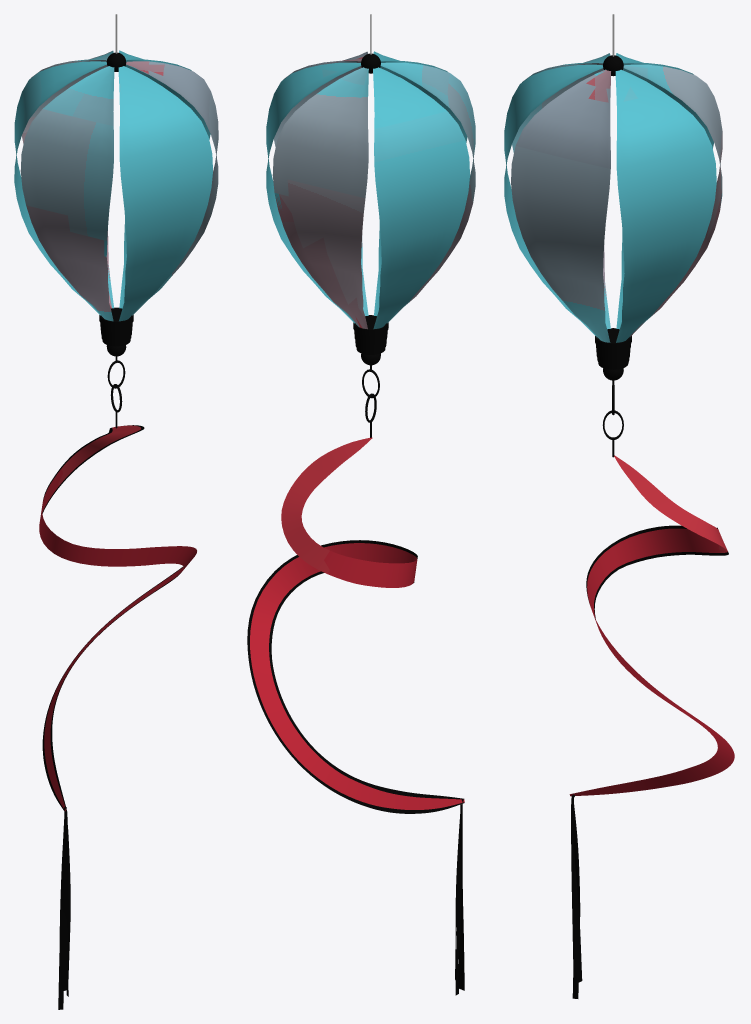
Rendered from 1779299864160_热气球.glb.
3 views of the same model, side by side, from view 1: azimuth 30°, elevation 25°; view 2: azimuth 150°, elevation 25°; view 3: azimuth 270°, elevation 25° (orthographic). The views are drawn at different scales.
Visible parts, largest first — view 1: zhuti mian1, polySurface12 daizi1, mian1 suizi, polySurface11, mian1 heikuai; view 2: zhuti mian1, polySurface12 daizi1, polySurface11, mian1 suizi, mian1 heikuai; view 3: zhuti mian1, polySurface12 daizi1, mian1 suizi, mian1 heikuai, polySurface11.
Boxes of the visible parts, <box> form: zhuti mian1: <box>14,50,218,321</box>; polySurface12 daizi1: <box>39,425,196,811</box>; mian1 suizi: <box>58,807,70,1009</box>; polySurface11: <box>42,425,183,811</box>; mian1 heikuai: <box>99,307,133,346</box>; zhuti mian1: <box>266,51,475,329</box>; polySurface12 daizi1: <box>250,437,464,809</box>; polySurface11: <box>247,540,464,813</box>; mian1 suizi: <box>455,799,464,995</box>; mian1 heikuai: <box>353,315,388,354</box>; zhuti mian1: <box>504,53,722,342</box>; polySurface12 daizi1: <box>569,455,734,796</box>; mian1 suizi: <box>571,794,582,998</box>; mian1 heikuai: <box>595,328,631,369</box>; polySurface11: <box>586,525,728,619</box>.
Bounding box in the file's own units: 0.00605 × 0.0281 × 0.00574.
Materials: 9 (7 with a texture image).
